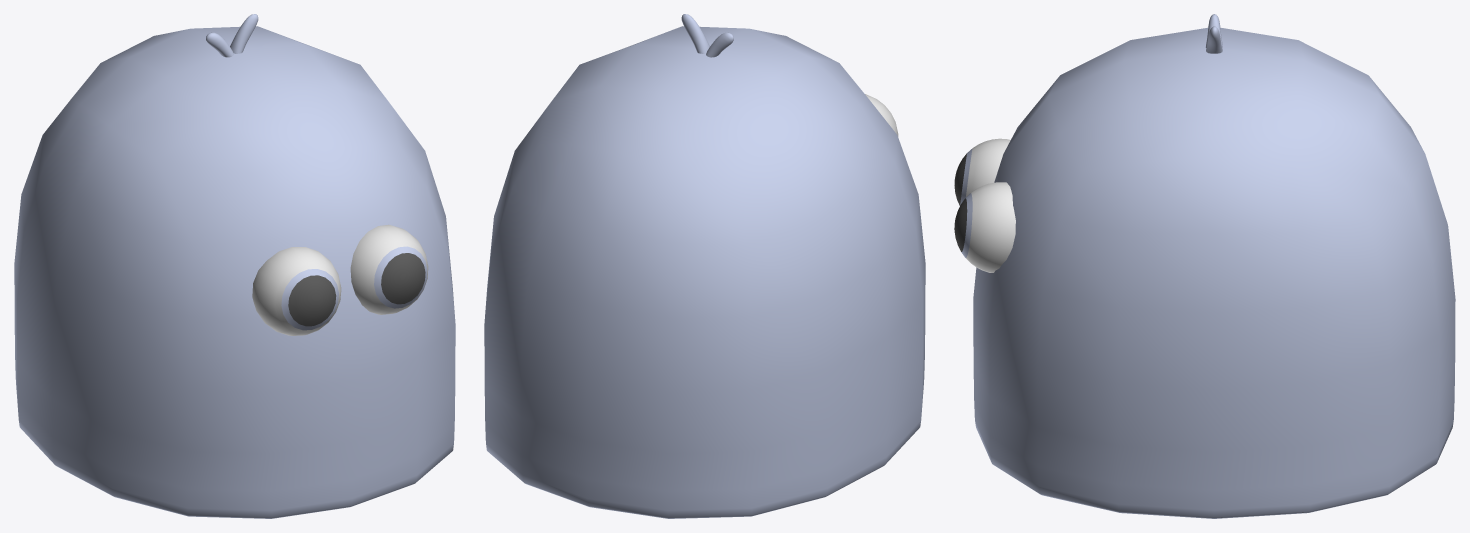
3 views of the same model, side by side, from view 1: azimuth 30°, elevation 25°; view 2: azimuth 150°, elevation 25°; view 3: azimuth 270°, elevation 25° (orthographic). The views are drawn at different scales.
Parts seen in each view (by area): view 1: pCube1, eyes-whiteMTL, eyes-blackMTL, eyes-blueMTL, pCube3; view 2: pCube1, pCube3; view 3: pCube1, eyes-whiteMTL, eyes-blackMTL, eyes-blueMTL.
Boxes of the visible parts, x1,y1,x2,y2 form: pCube1: (14, 26, 455, 518); eyes-whiteMTL: (252, 224, 428, 335); eyes-blackMTL: (288, 253, 425, 326); eyes-blueMTL: (281, 246, 427, 330); pCube3: (230, 14, 258, 53); pCube1: (484, 26, 925, 518); pCube3: (681, 14, 709, 53); pCube1: (973, 27, 1455, 518); eyes-whiteMTL: (966, 138, 1015, 272); eyes-blackMTL: (954, 153, 967, 251); eyes-blueMTL: (960, 149, 972, 257).
Bounding box in the file's own units: 0.0404 × 0.0429 × 0.0469.
